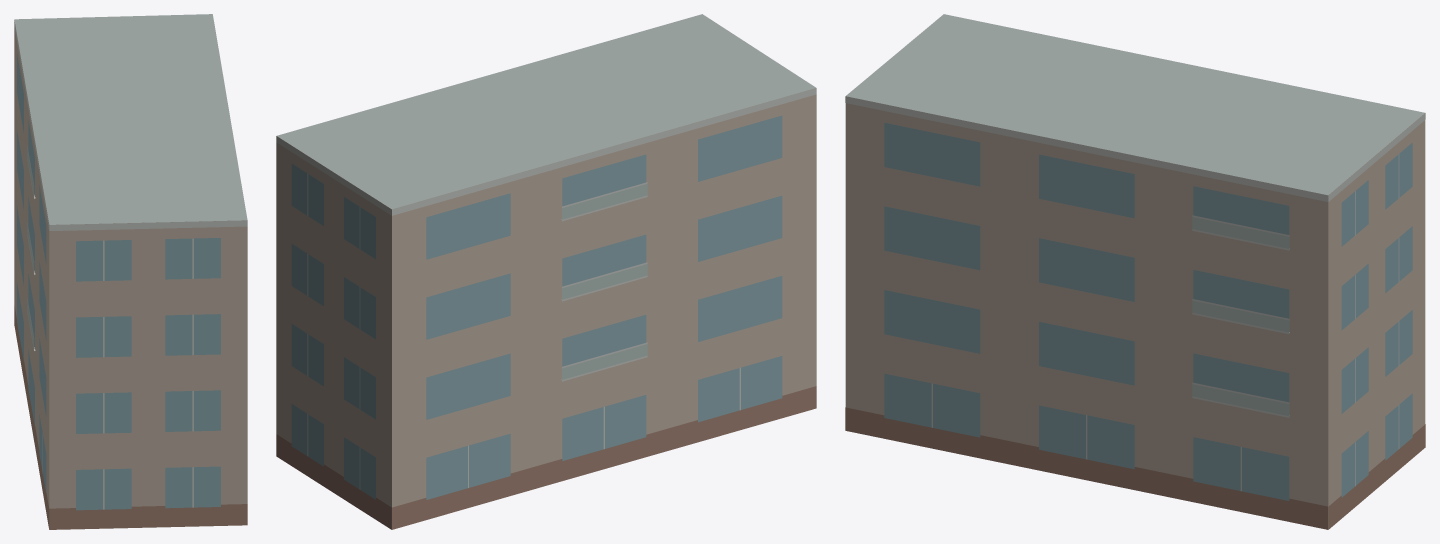
File: survey-upis-32889421.glb
3 views of the same model, side by side, from view 1: azimuth 30°, elevation 25°; view 2: azimuth 150°, elevation 25°; view 3: azimuth 270°, elevation 25° (orthographic). The views are drawn at different scales.
Parts seen in each view (by area): view 1: survey-upis-32889421.tmp; view 2: survey-upis-32889421.tmp; view 3: survey-upis-32889421.tmp.
Boxes of the visible parts, left/top/right/bottom form: survey-upis-32889421.tmp: left=14, top=14, right=247, bottom=529; survey-upis-32889421.tmp: left=276, top=14, right=816, bottom=529; survey-upis-32889421.tmp: left=845, top=14, right=1425, bottom=529.
Size of the model in its own units: 13.96 by 12 by 18.87.
